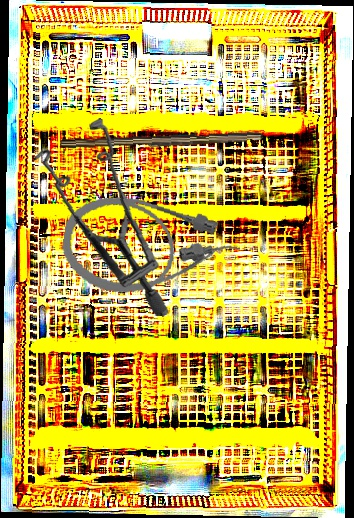Cannula: (56, 188, 246, 311)
Scalpel Handle: (59, 128, 264, 155)
Speculum: (20, 112, 186, 318)
